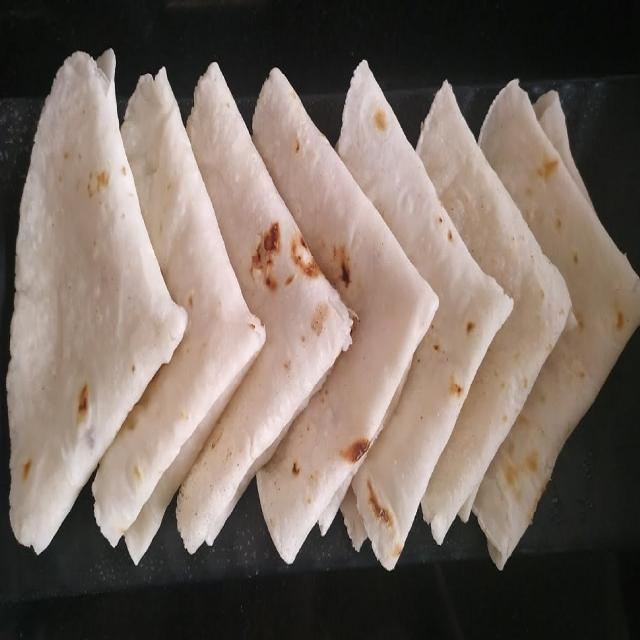RICE BHAKRI: (7, 50, 189, 555)
